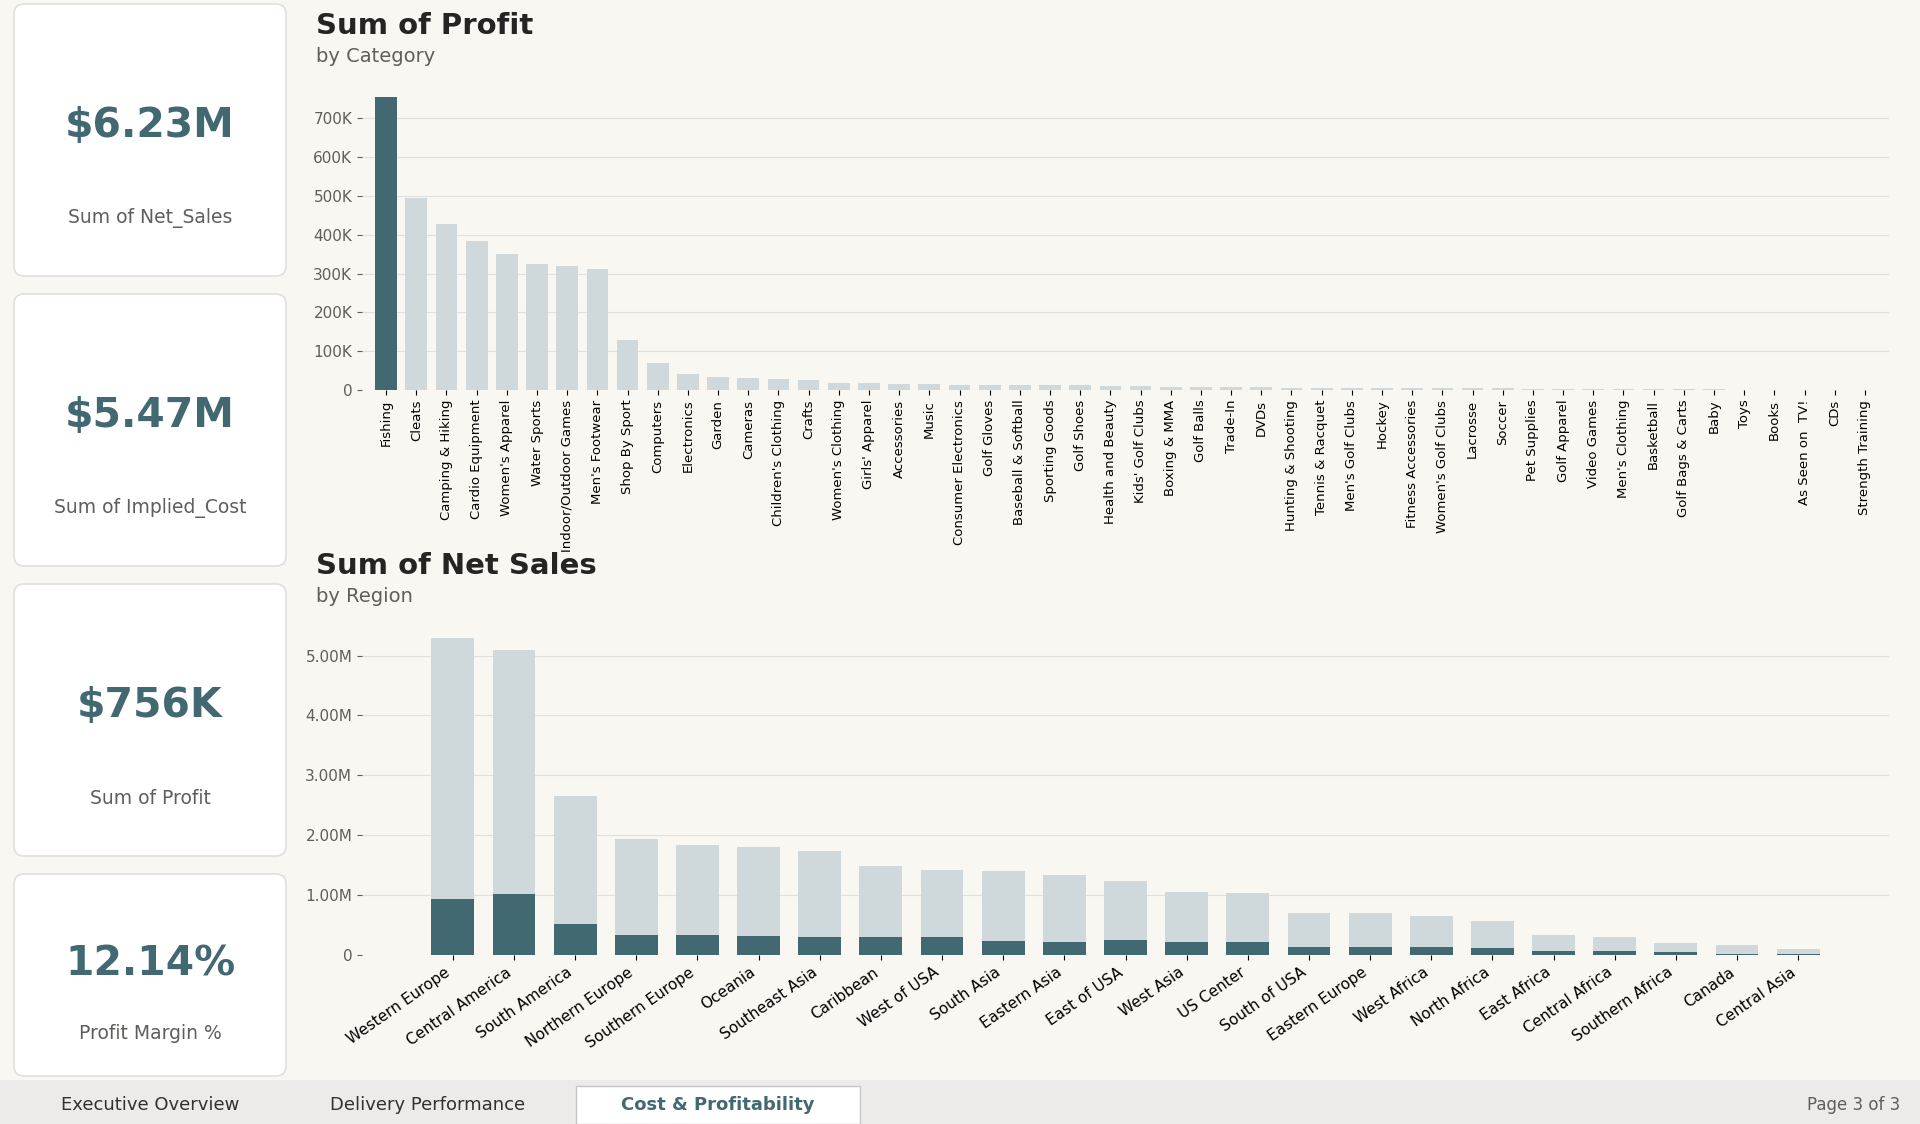

What the dashboard file says about the page in this screenshot:
{"tool":"powerbi","page":{"name":"Cost & Profitability","canvas":[1920,1080],"ordinal":2},"visuals":[{"type":"cardVisual","fields":{"Data":["Sum(Fact_OrderItems.Net_Sales)"]},"box":[10,106,280,214],"z":0},{"type":"cardVisual","fields":{"Data":["Sum(Fact_OrderItems.Implied_Cost)"]},"box":[10,336,280,220],"z":1000},{"type":"cardVisual","fields":{"Data":["Sum(Fact_OrderItems.Profit)"]},"box":[10,580,280,280],"z":2000},{"type":"cardVisual","fields":{"Data":["Sum(Fact_OrderItems.Profit Margin %)"]},"box":[10,870,280,210],"z":3000},{"type":"columnChart","fields":{"Category":["Fact_OrderItems.Category"],"Y":["Sum(Fact_OrderItems.Profit)"]},"box":[302,106,1618,494],"z":4000},{"type":"columnChart","title":"Sum of Net Sales","fields":{"Category":["Fact_OrderItems.Region"],"Y":["Sum(Fact_OrderItems.Net_Sales)"]},"box":[302,600,1618,480],"z":5000},{"type":"textbox","box":[10,16,1144,68],"z":5001}]}

Visuals, with their boxes on the page's 1920x1080 design canvas (x1, y1, x2, y2). These are canvas units, not pixel positions in the 1920x1124 screenshot, which may show the page scaled, cropped or inside an application window:
cardVisual - Sum(Fact_OrderItems.Net_Sales): [left=10, top=106, right=290, bottom=320]
cardVisual - Sum(Fact_OrderItems.Implied_Cost): [left=10, top=336, right=290, bottom=556]
cardVisual - Sum(Fact_OrderItems.Profit): [left=10, top=580, right=290, bottom=860]
cardVisual - Sum(Fact_OrderItems.Profit Margin %): [left=10, top=870, right=290, bottom=1080]
columnChart - Fact_OrderItems.Category x Sum(Fact_OrderItems.Profit): [left=302, top=106, right=1920, bottom=600]
"Sum of Net Sales" columnChart: [left=302, top=600, right=1920, bottom=1080]
textbox: [left=10, top=16, right=1154, bottom=84]
